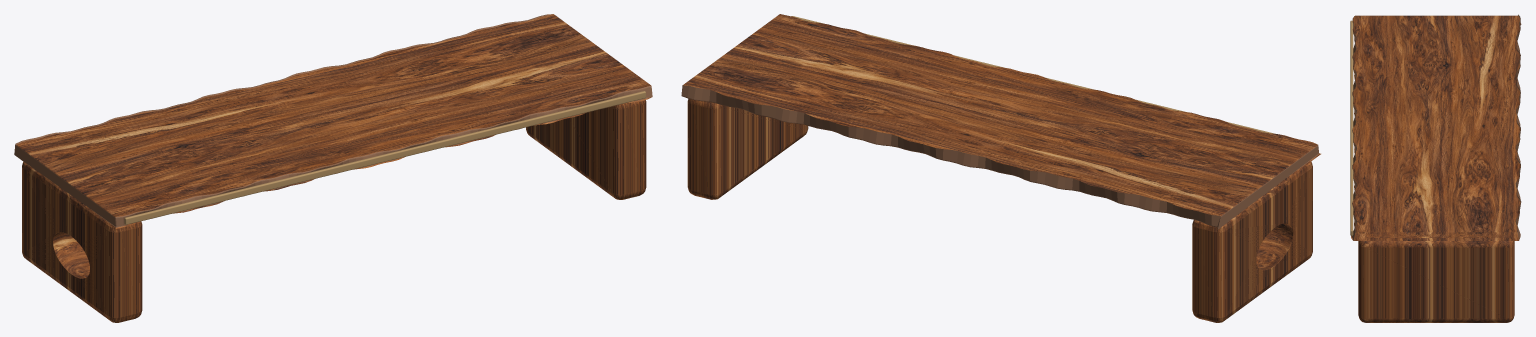
File: enchi_albizia_waterfall.glb
3 renders of one model, left to right at view 1: azimuth 30°, elevation 25°; view 2: azimuth 150°, elevation 25°; view 3: azimuth 270°, elevation 25°, orthographic. The views are drawn at different scales.
Parts seen in each view (by area): view 1: ENCHI / continuous wood grain slab, ENCHI / sculpted waterfall end, ENCHI / sculpted waterfall end.001, ENCHI / narrow live sapwood lip; view 2: ENCHI / continuous wood grain slab, ENCHI / sculpted waterfall end, ENCHI / sculpted waterfall end.001, ENCHI / narrow live sapwood lip; view 3: ENCHI / continuous wood grain slab, ENCHI / sculpted waterfall end.001, ENCHI / narrow live sapwood lip.
Boxes of the visible parts, bbox=[...] form: ENCHI / continuous wood grain slab: bbox=[14, 14, 652, 228]; ENCHI / sculpted waterfall end: bbox=[22, 162, 142, 322]; ENCHI / sculpted waterfall end.001: bbox=[526, 100, 646, 199]; ENCHI / narrow live sapwood lip: bbox=[124, 91, 645, 224]; ENCHI / continuous wood grain slab: bbox=[681, 14, 1320, 229]; ENCHI / sculpted waterfall end: bbox=[1192, 161, 1312, 322]; ENCHI / sculpted waterfall end.001: bbox=[687, 98, 808, 199]; ENCHI / narrow live sapwood lip: bbox=[791, 16, 1275, 133]; ENCHI / continuous wood grain slab: bbox=[1351, 14, 1521, 240]; ENCHI / sculpted waterfall end.001: bbox=[1358, 232, 1514, 322]; ENCHI / narrow live sapwood lip: bbox=[1350, 20, 1353, 235].
Bounding box in the file's own units: 3.76 × 0.758 × 1.25.
5 materials, 2 textured.
